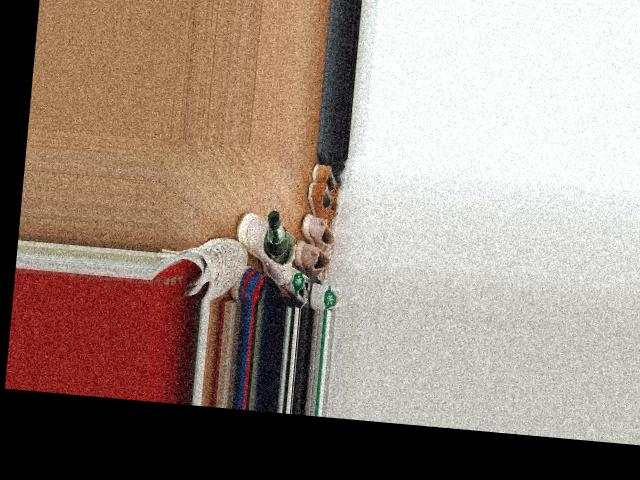beer: (263, 209, 292, 263)
